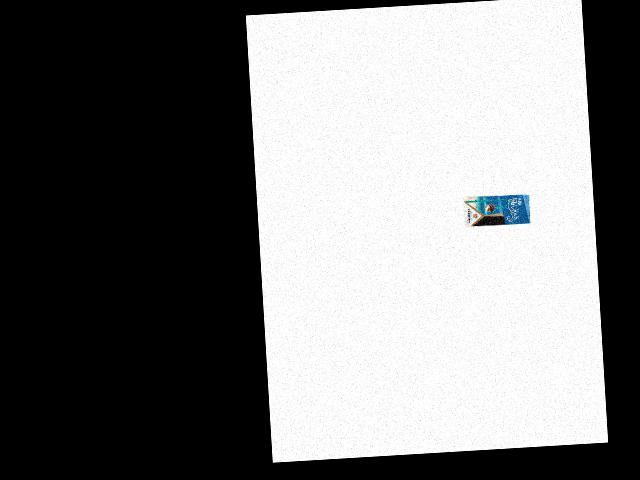chocolate: (460, 192, 531, 229)
